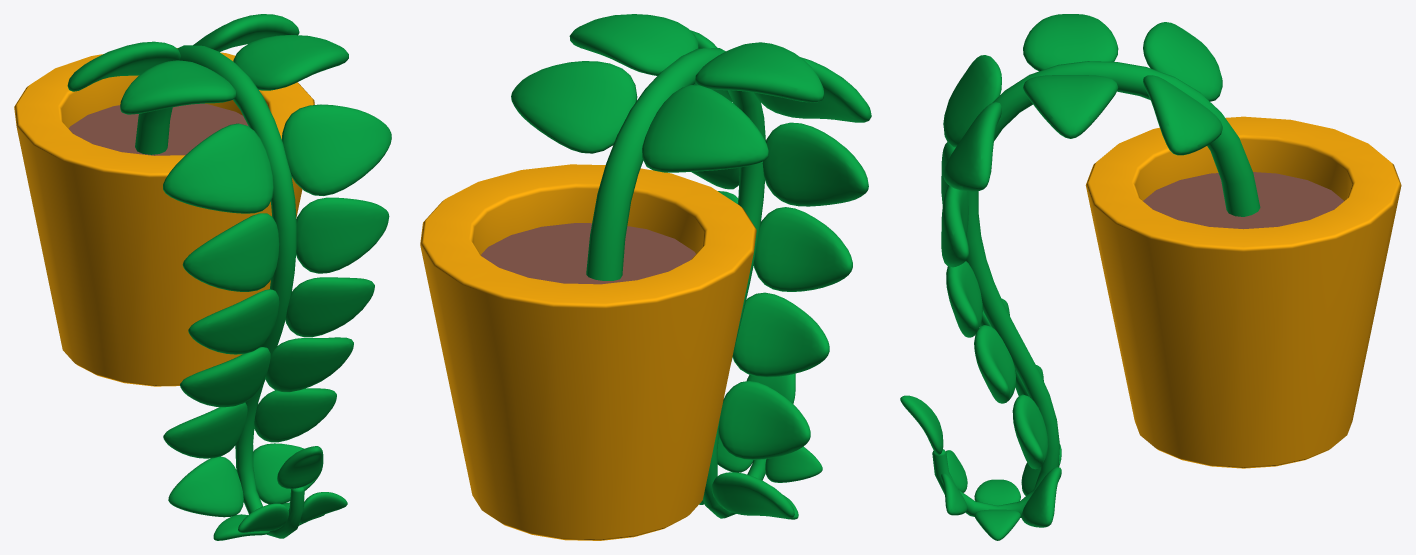
Rendered from City_16_Plant_3.glb.
The picture shows the model from 3 angles, left to right: view 1: azimuth 30°, elevation 25°; view 2: azimuth 150°, elevation 25°; view 3: azimuth 270°, elevation 25°; orthographic projection. The views are drawn at different scales.
Parts seen in each view (by area): view 1: City_16_Plant_3; view 2: City_16_Plant_3; view 3: City_16_Plant_3.
Part boxes in pixels (x1,y1,x2,y2): City_16_Plant_3: (14,14,391,540); City_16_Plant_3: (420,14,871,540); City_16_Plant_3: (900,14,1401,540).
Size of the model in its own units: 0.4876 by 0.7929 by 0.7737.
Materials: 1 (1 with a texture image).
